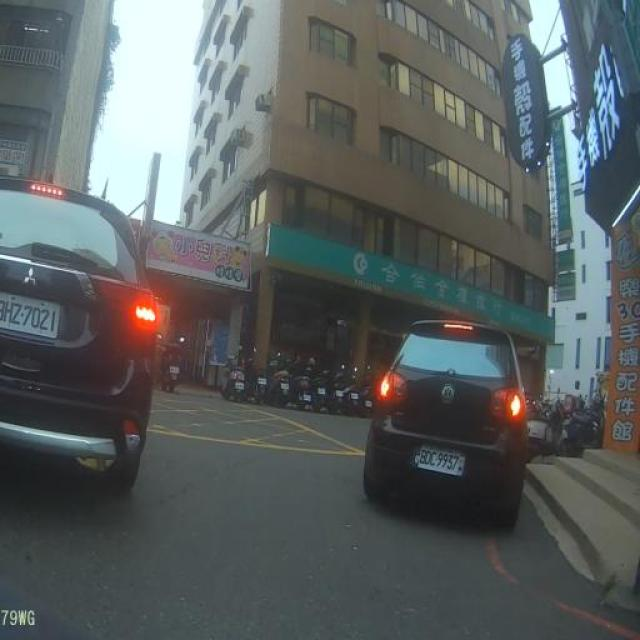Legalparking: (164, 322, 368, 417), (529, 344, 611, 454)
illegalparking: (0, 179, 155, 490), (362, 320, 526, 526)
